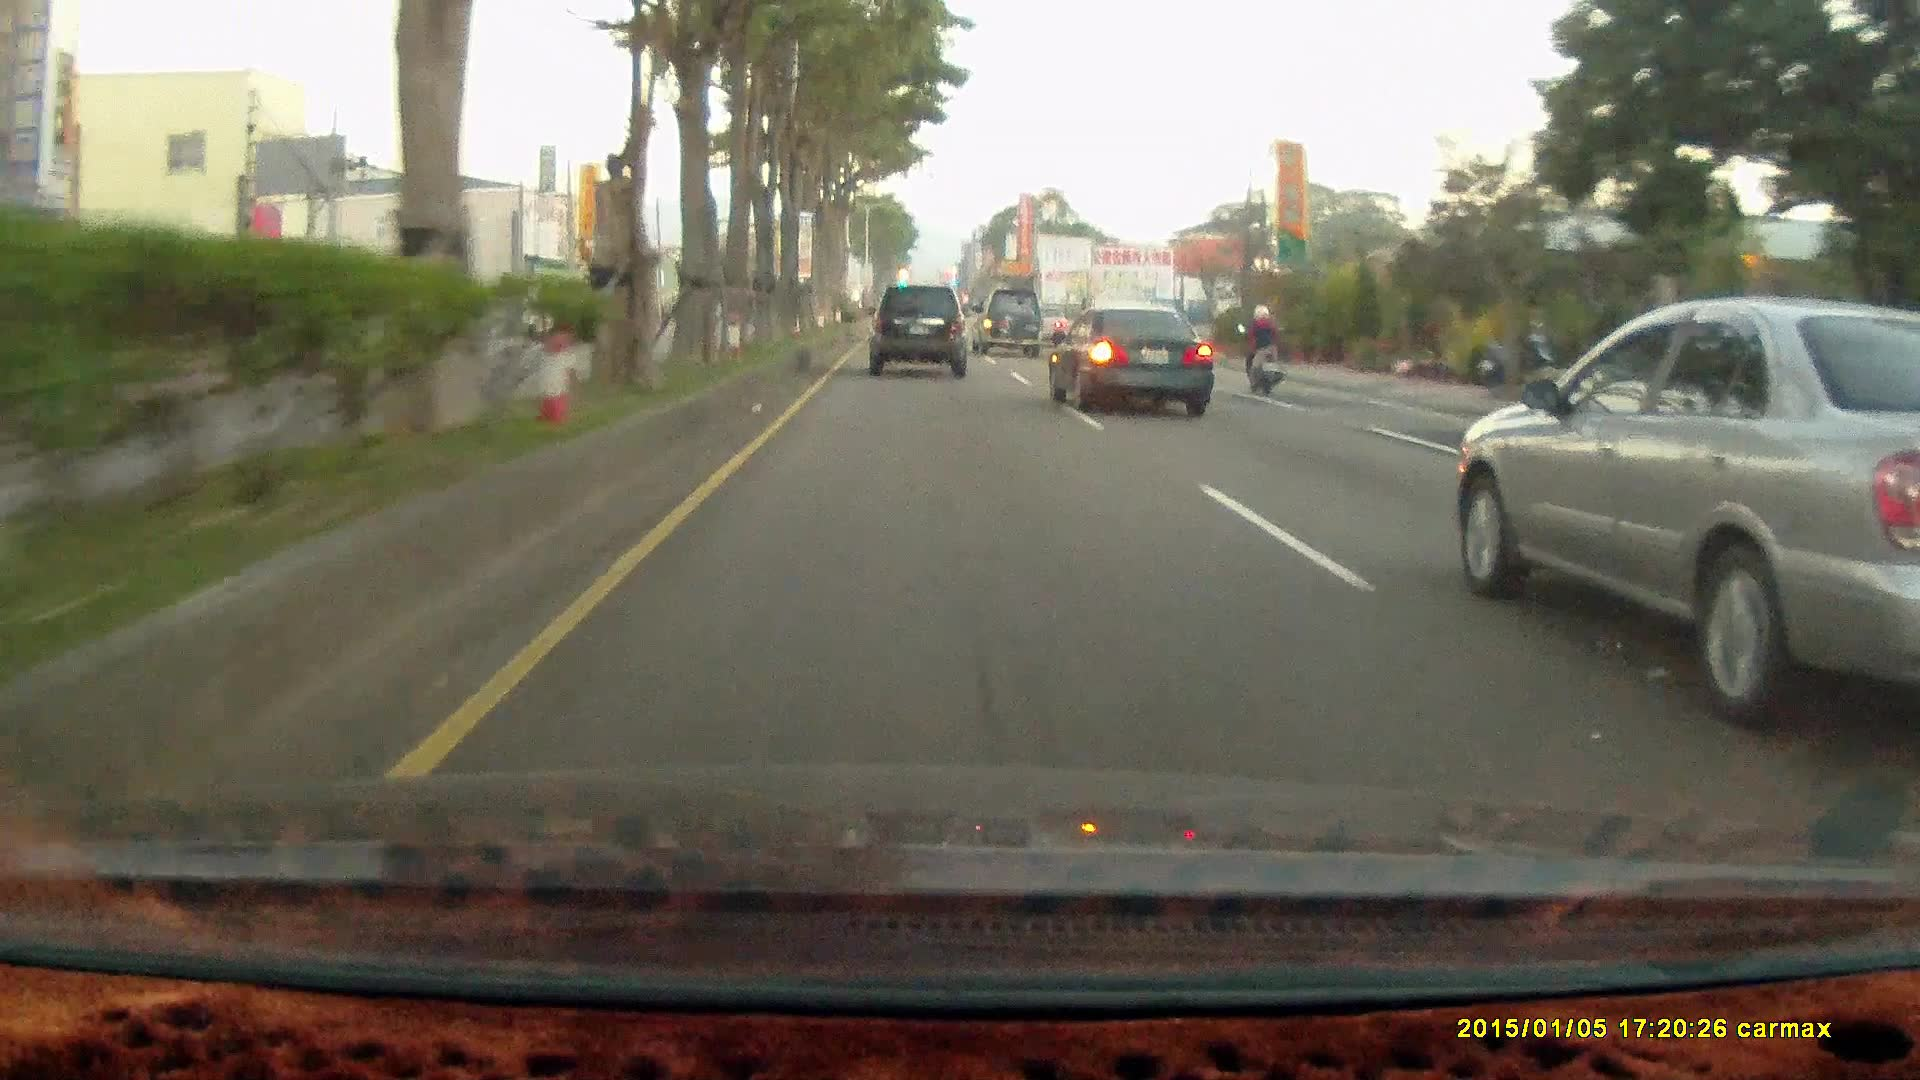rider: (1229, 293, 1295, 406), (1234, 299, 1286, 397)
vehicle: (1454, 297, 1915, 730), (1046, 305, 1214, 419), (1046, 302, 1219, 414), (864, 281, 978, 380), (863, 285, 964, 377), (975, 285, 1047, 358), (970, 288, 1041, 356)
